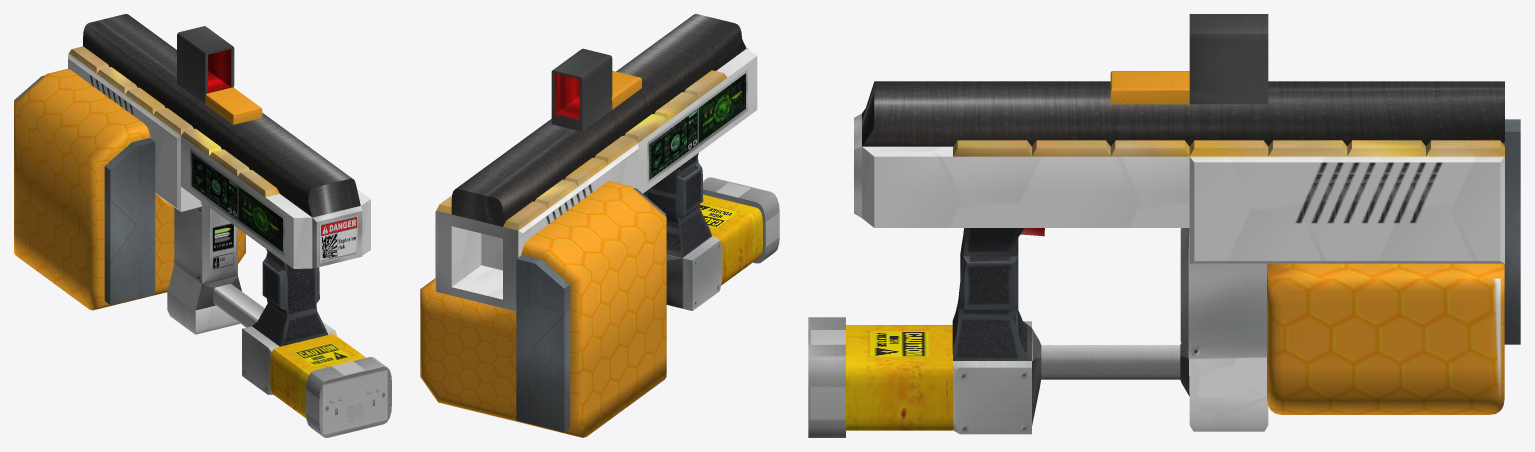
Rendered from SMG02.fbx.
The picture shows the model from 3 angles, left to right: view 1: azimuth 30°, elevation 25°; view 2: azimuth 150°, elevation 25°; view 3: azimuth 270°, elevation 25°; orthographic projection. The views are drawn at different scales.
Parts seen in each view (by area): view 1: SMG02; view 2: SMG02; view 3: SMG02.
Boxes of the visible parts, x1=… form: SMG02: x1=14, y1=14, x2=391, y2=437; SMG02: x1=420, y1=14, x2=779, y2=437; SMG02: x1=808, y1=14, x2=1520, y2=437.
Size of the model in its own units: 40.34 by 70.25 by 115.
Materials: 1 (1 with a texture image).
